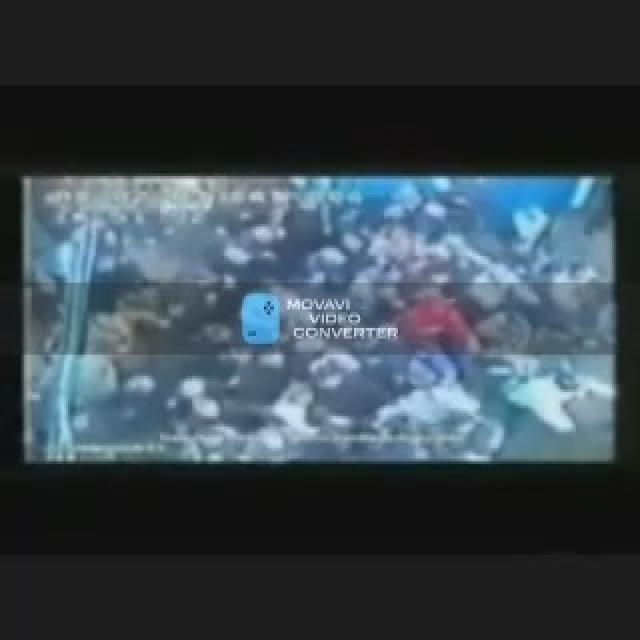non-voilence: (20, 171, 620, 464)
